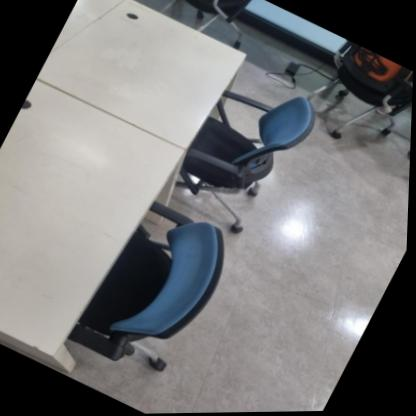Chair: (63, 200, 254, 415), (165, 66, 337, 247)
Table: (0, 0, 254, 382)
